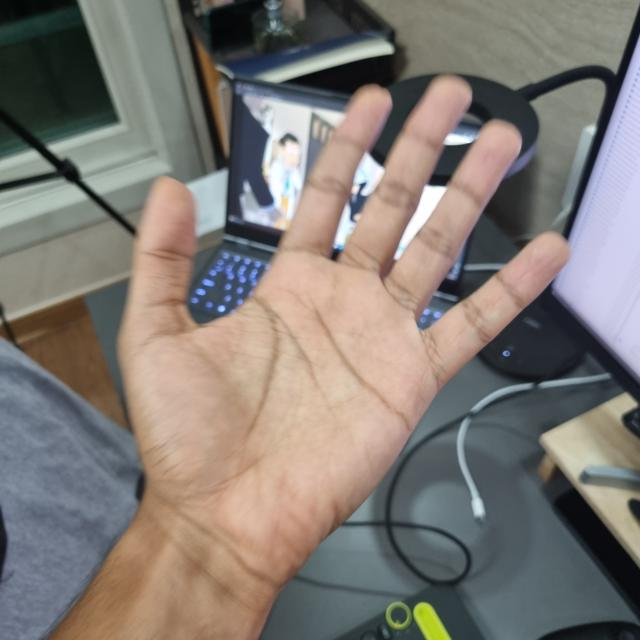Paper: (112, 70, 575, 574)
